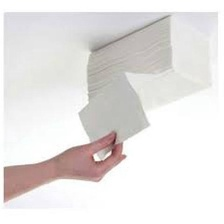tissue: (72, 12, 218, 165)
